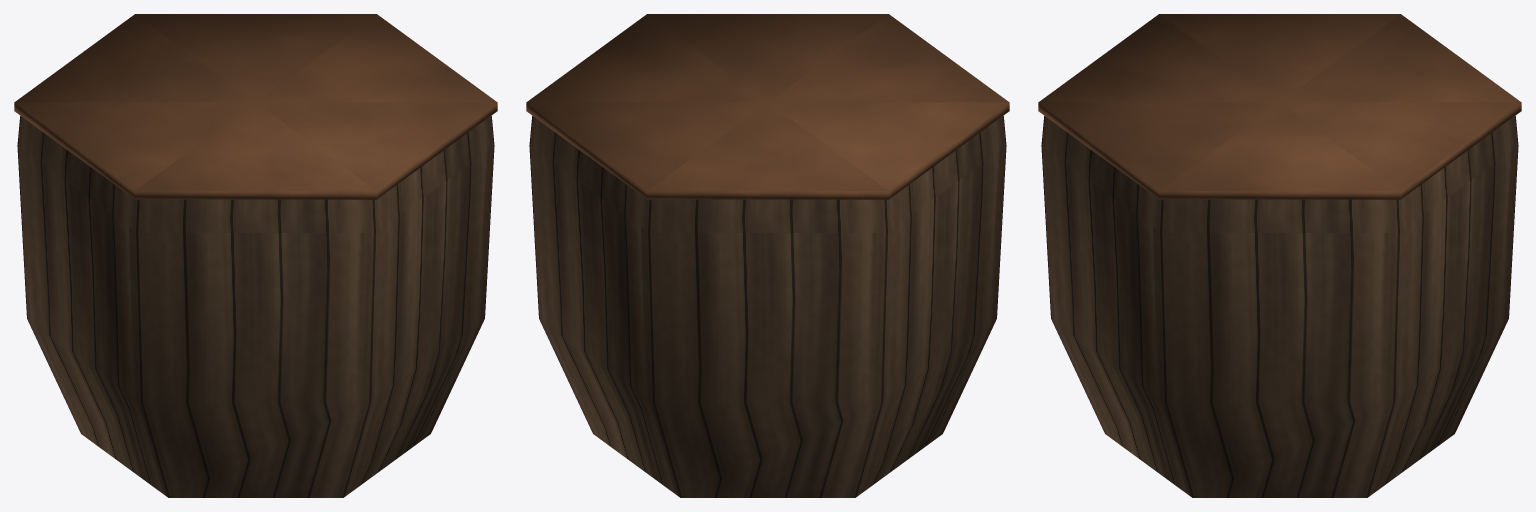
The model's file is WarDrum_1_LOD2.gltf.
3 renders of one model, left to right at view 1: azimuth 30°, elevation 25°; view 2: azimuth 150°, elevation 25°; view 3: azimuth 270°, elevation 25°, orthographic.
Visible parts, largest first — view 1: WarDrum_1_LOD2; view 2: WarDrum_1_LOD2; view 3: WarDrum_1_LOD2.
Part boxes in pixels (x1,y1,x2,y2): WarDrum_1_LOD2: (14,14,497,497); WarDrum_1_LOD2: (526,14,1009,497); WarDrum_1_LOD2: (1038,14,1521,497).
Size of the model in its own units: 1.32 by 1.15 by 1.52.
Materials: 2 (2 with a texture image).
